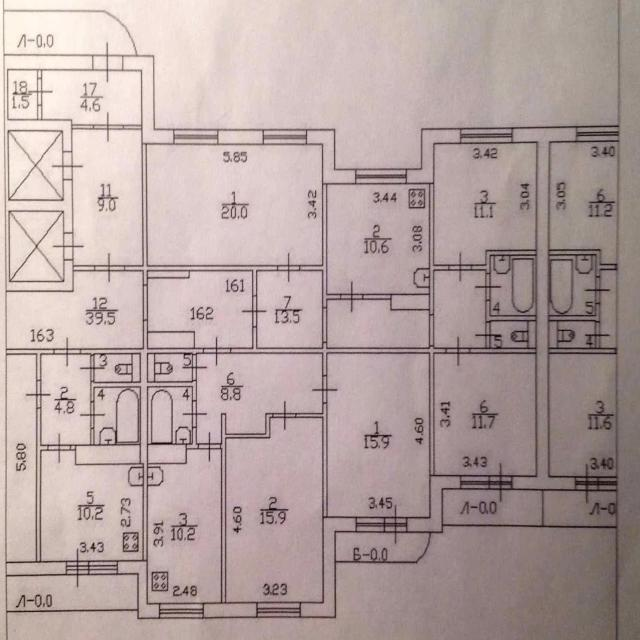Bathrooms: (94, 387, 140, 444), (550, 256, 594, 315), (491, 256, 535, 315), (147, 386, 192, 443), (490, 321, 536, 347), (550, 321, 596, 347), (95, 355, 139, 381), (148, 355, 192, 381)
Corridors: (197, 354, 321, 443), (6, 272, 142, 349), (72, 130, 142, 264), (148, 272, 253, 347), (4, 11, 137, 56), (42, 71, 142, 123), (258, 272, 322, 347), (328, 301, 429, 347), (42, 355, 91, 444), (8, 576, 137, 609), (435, 270, 484, 346), (443, 490, 541, 525), (335, 532, 431, 562), (544, 492, 616, 526), (7, 71, 37, 119), (601, 270, 616, 347)
Doors: (92, 41, 124, 83), (489, 460, 513, 504), (92, 111, 123, 143), (94, 252, 125, 283), (52, 151, 85, 180), (51, 232, 85, 260), (66, 546, 88, 589), (384, 504, 407, 545), (203, 335, 232, 367), (339, 278, 364, 315), (575, 463, 598, 503), (444, 334, 471, 368), (240, 295, 267, 328), (53, 337, 81, 368), (272, 400, 297, 433), (312, 374, 339, 404), (47, 432, 71, 465), (474, 321, 502, 349), (78, 400, 105, 429), (25, 380, 51, 410), (79, 354, 106, 382), (475, 273, 502, 301), (584, 321, 611, 349), (277, 252, 300, 284), (198, 430, 221, 462), (585, 276, 610, 305), (449, 252, 472, 283), (27, 78, 53, 105), (182, 401, 208, 428), (183, 354, 207, 381), (142, 285, 148, 321), (323, 307, 327, 343), (430, 315, 434, 347)
LBwalls: (512, 126, 577, 491), (300, 516, 356, 618), (123, 55, 174, 146), (8, 179, 73, 233), (407, 474, 461, 533), (406, 128, 461, 185), (306, 128, 355, 185), (118, 560, 159, 619), (8, 119, 73, 152), (5, 261, 74, 292), (4, 55, 93, 71), (76, 445, 140, 464), (203, 602, 257, 618), (147, 331, 195, 349), (6, 562, 66, 575), (147, 444, 186, 464), (218, 129, 263, 144), (391, 294, 429, 310), (147, 271, 190, 278)
Offices: (147, 145, 322, 264), (226, 418, 322, 603), (327, 354, 429, 516), (434, 143, 536, 264), (435, 355, 535, 474), (147, 449, 222, 603), (41, 451, 143, 560), (328, 185, 429, 294), (550, 142, 619, 264), (550, 353, 616, 475), (6, 355, 36, 561)
Walls: (231, 327, 446, 476), (80, 320, 204, 561), (124, 144, 278, 295), (221, 413, 273, 603), (299, 184, 341, 309), (296, 403, 328, 516), (429, 183, 449, 315), (36, 408, 48, 563), (550, 250, 616, 277), (471, 249, 537, 274), (6, 349, 54, 381), (4, 69, 10, 281), (485, 300, 536, 323), (550, 303, 600, 321), (471, 347, 536, 353), (550, 349, 617, 354), (186, 427, 200, 449), (363, 294, 391, 300), (73, 265, 95, 272), (541, 490, 544, 527), (71, 124, 93, 129), (123, 125, 142, 129), (91, 429, 95, 445), (37, 105, 41, 119), (37, 69, 42, 79)
Windows: (461, 128, 513, 143), (356, 169, 406, 184), (174, 129, 218, 146), (256, 602, 301, 618), (159, 603, 203, 619), (263, 129, 306, 145), (576, 127, 619, 141), (460, 474, 489, 490), (356, 517, 384, 532), (88, 561, 117, 575), (598, 477, 618, 492)
